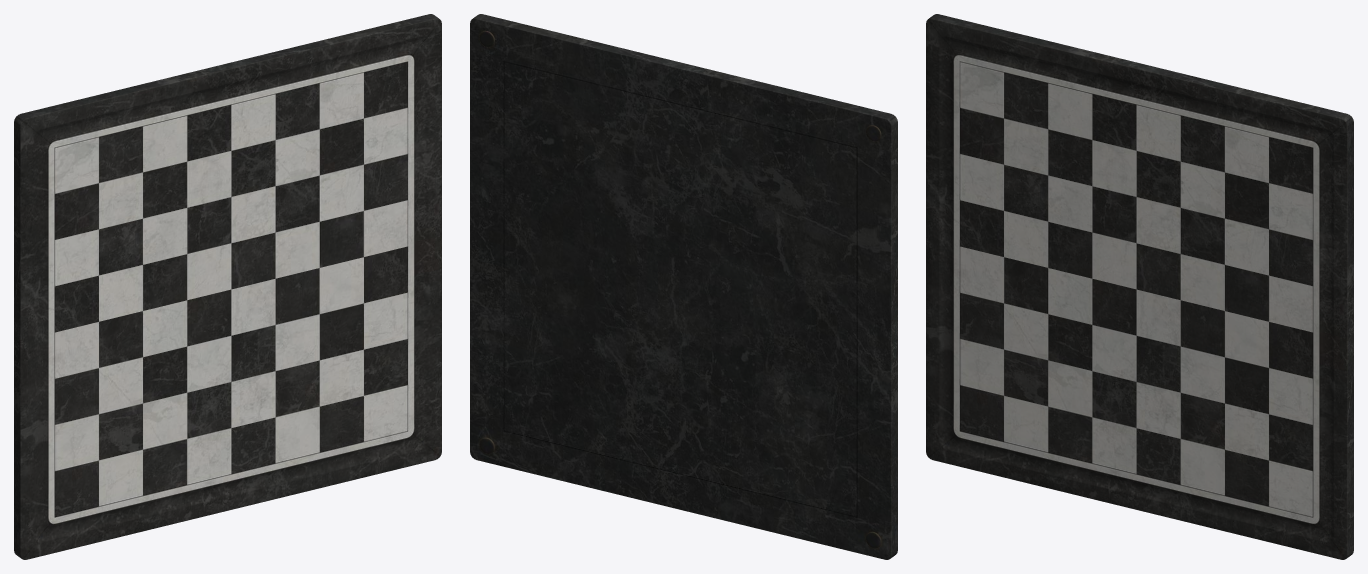
The model's file is board.obj.
3 views of the same model, side by side, from view 1: azimuth 30°, elevation 25°; view 2: azimuth 150°, elevation 25°; view 3: azimuth 330°, elevation 25° (orthographic).
Bounding box in the file's own units: 8 × 8 × 0.2509.
Materials: 1 (1 with a texture image).
